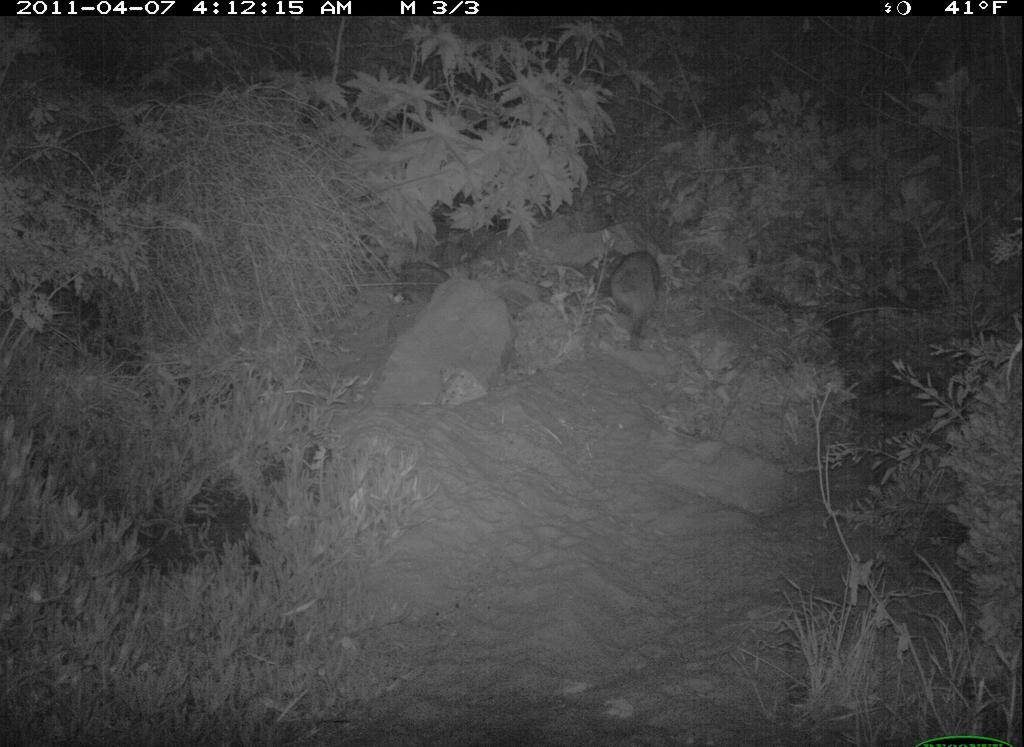raccoon: (601, 227, 676, 358)
